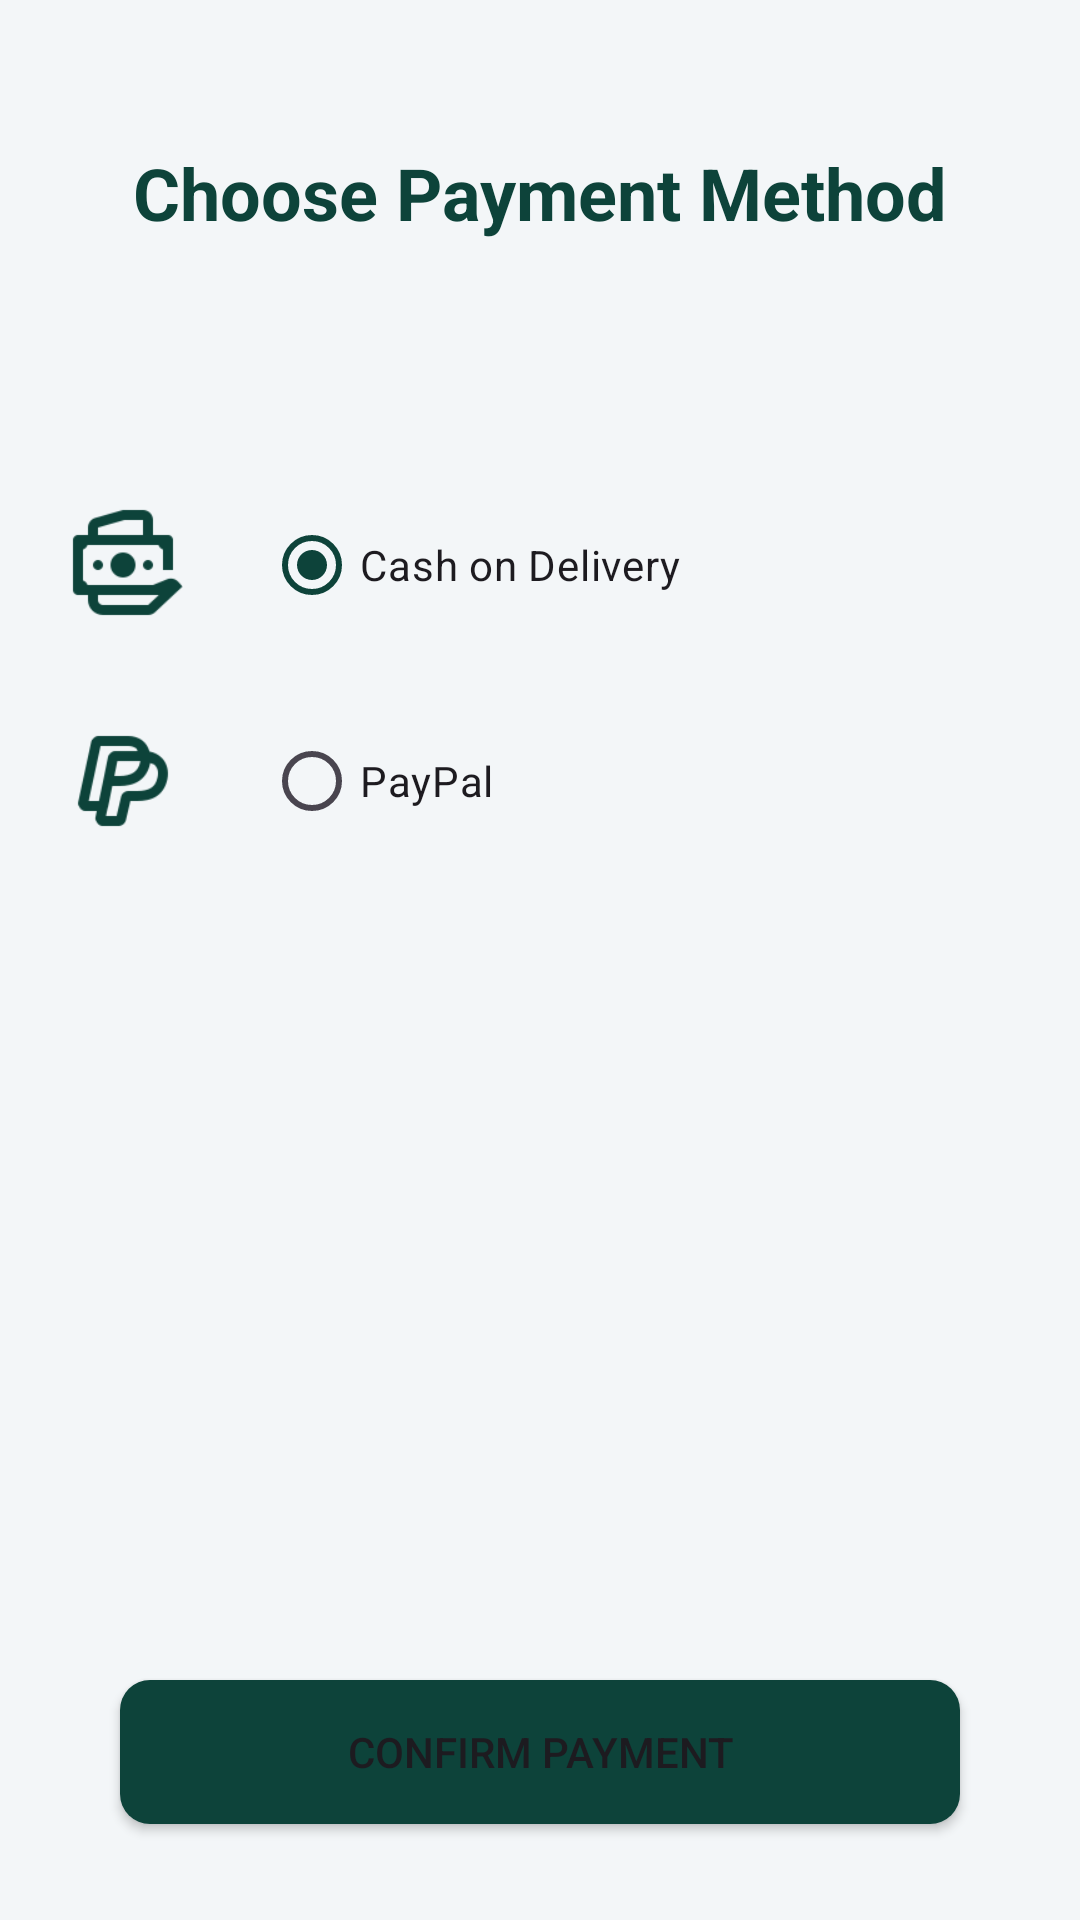

Where to tap for icons on this 1080×1920 app screen, as [x,y]:
cashicon: [128,562]
